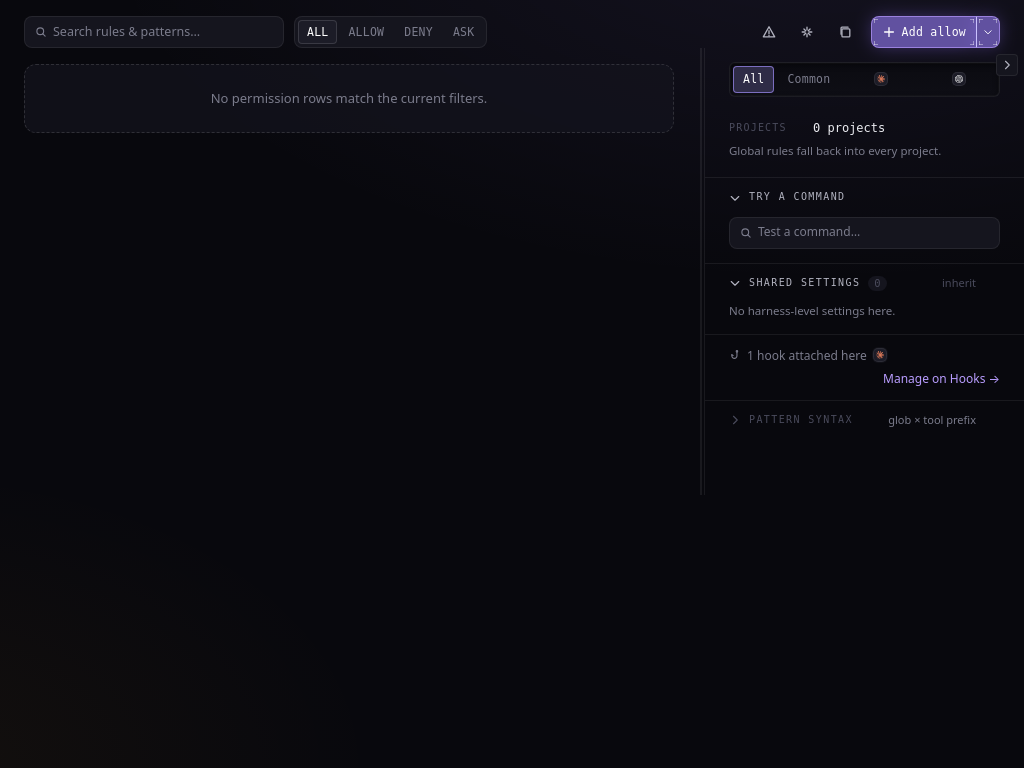
Scenario: PermissionsSidePanel — hooks row (f) › renders the hooks row in a harness view only when that harness has the hooks capability
Click the button named "Codex" at [959, 79], box left=921, top=67, right=996, bottom=91
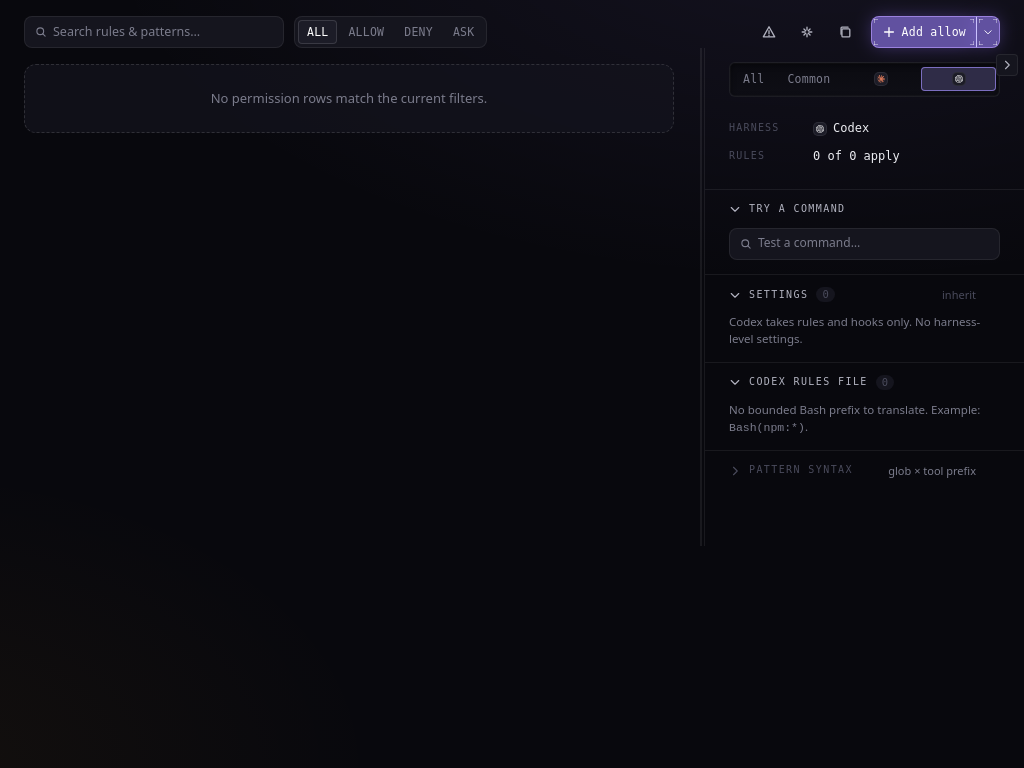
Expected: the element with test id "hooks-link-card" is gone
Click the button named "Claude Code" at [881, 79], box left=843, top=67, right=918, bottom=91
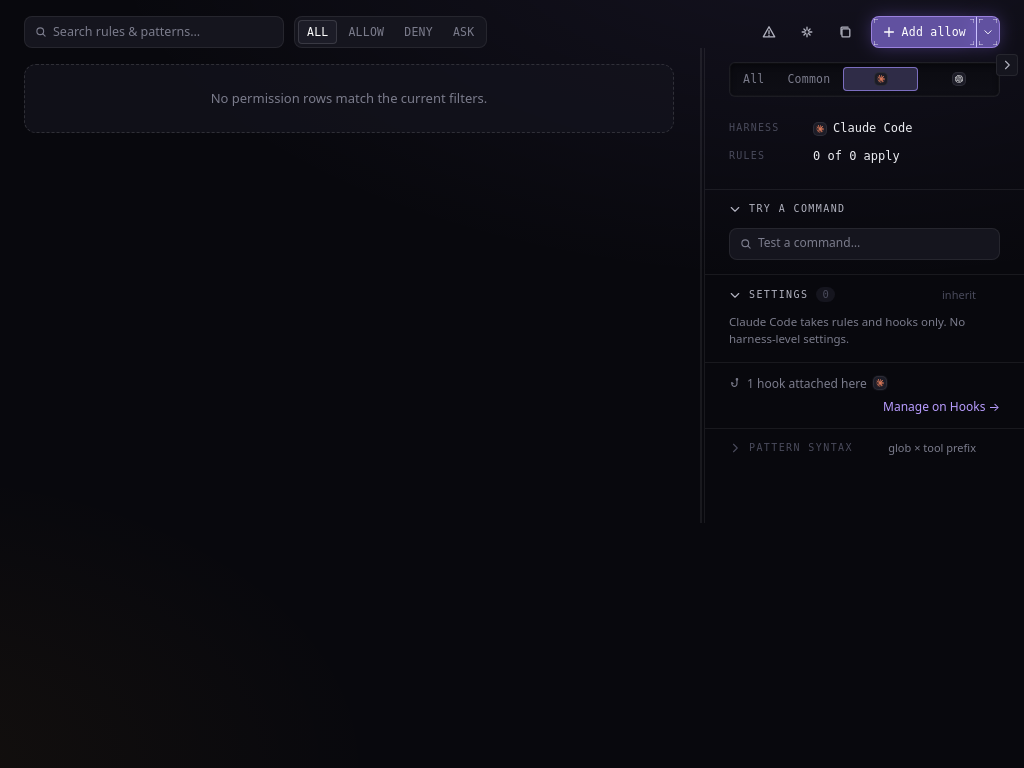
Expected: the element with test id "hooks-link-card" is shown, left=705, top=363, right=1023, bottom=428
